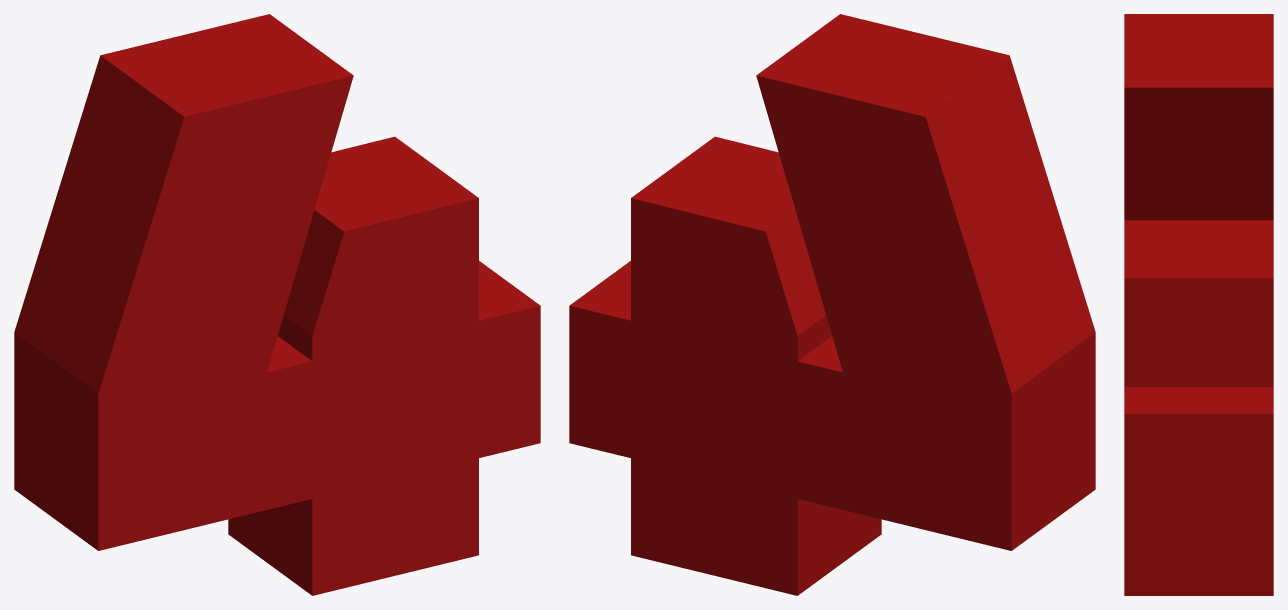
3 renders of one model, left to right at view 1: azimuth 30°, elevation 25°; view 2: azimuth 150°, elevation 25°; view 3: azimuth 270°, elevation 25°, orthographic. The views are drawn at different scales.
Visible parts, largest first — view 1: Texto; view 2: Texto; view 3: Texto.
Part boxes in pixels (<box>): Texto: <box>14,14,540,595</box>; Texto: <box>569,14,1095,595</box>; Texto: <box>1124,14,1273,595</box>.
Bounding box in the file's own units: 1.31 × 1.44 × 0.43.
